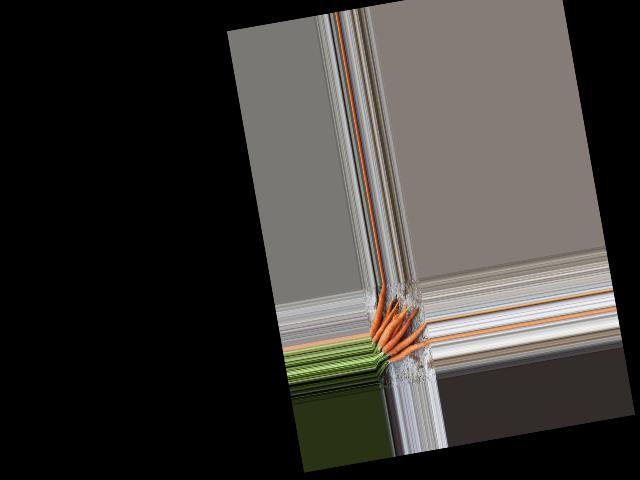carrot: (362, 284, 395, 340)
